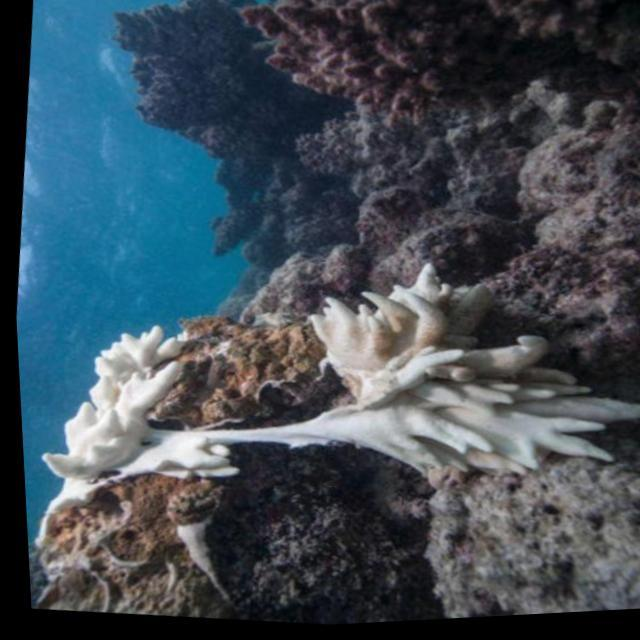Dead Coral: (290, 87, 640, 319), (68, 0, 282, 263), (204, 470, 416, 632)
